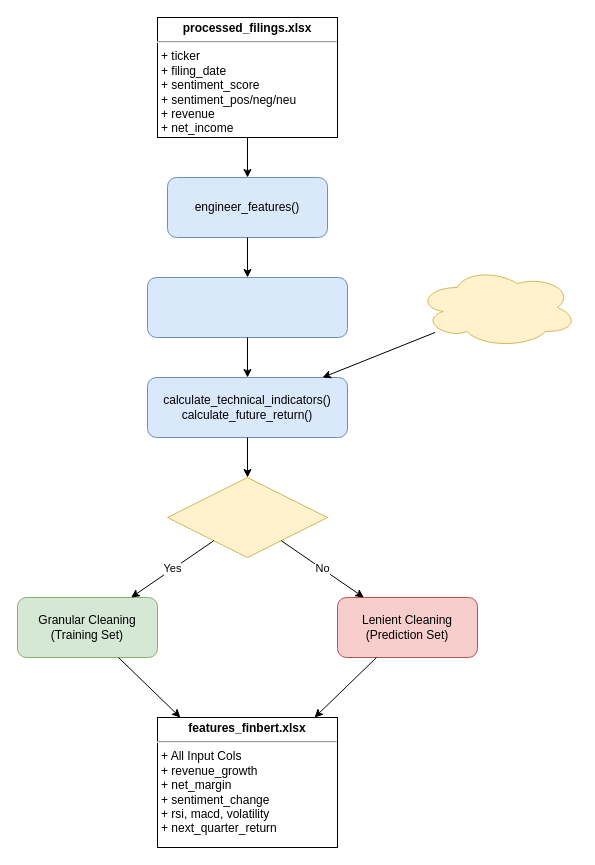
The diagram is 595 pixels wide and 865 high, and some of its shapes have lost their labels. Each missing label, with the box of its shape:
calculate_financial_growth() calculate_sentiment_change(): (146, 276, 348, 338)
fetch_stock_prices() (yfinance): (416, 266, 578, 348)
Has Return Target?: (166, 476, 328, 558)
